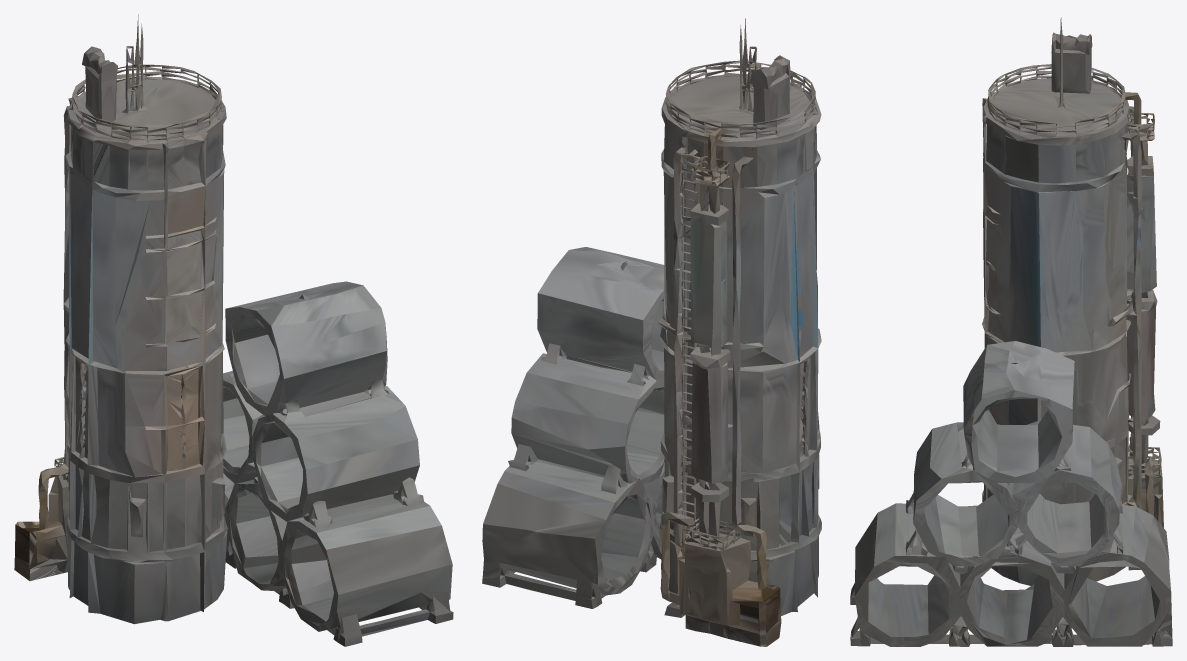
3 renders of one model, left to right at view 1: azimuth 30°, elevation 25°; view 2: azimuth 150°, elevation 25°; view 3: azimuth 270°, elevation 25°, orthographic. The views are drawn at different scales.
Parts seen in each view (by area): view 1: k12; view 2: k12; view 3: k12.
Part boxes in pixels (x1,y1,x2,y2): k12: (14,14,453,646); k12: (482,18,821,646); k12: (850,17,1172,646).
Bounding box in the file's own units: 9.18 × 18 × 9.69.
Materials: 1 (1 with a texture image).
